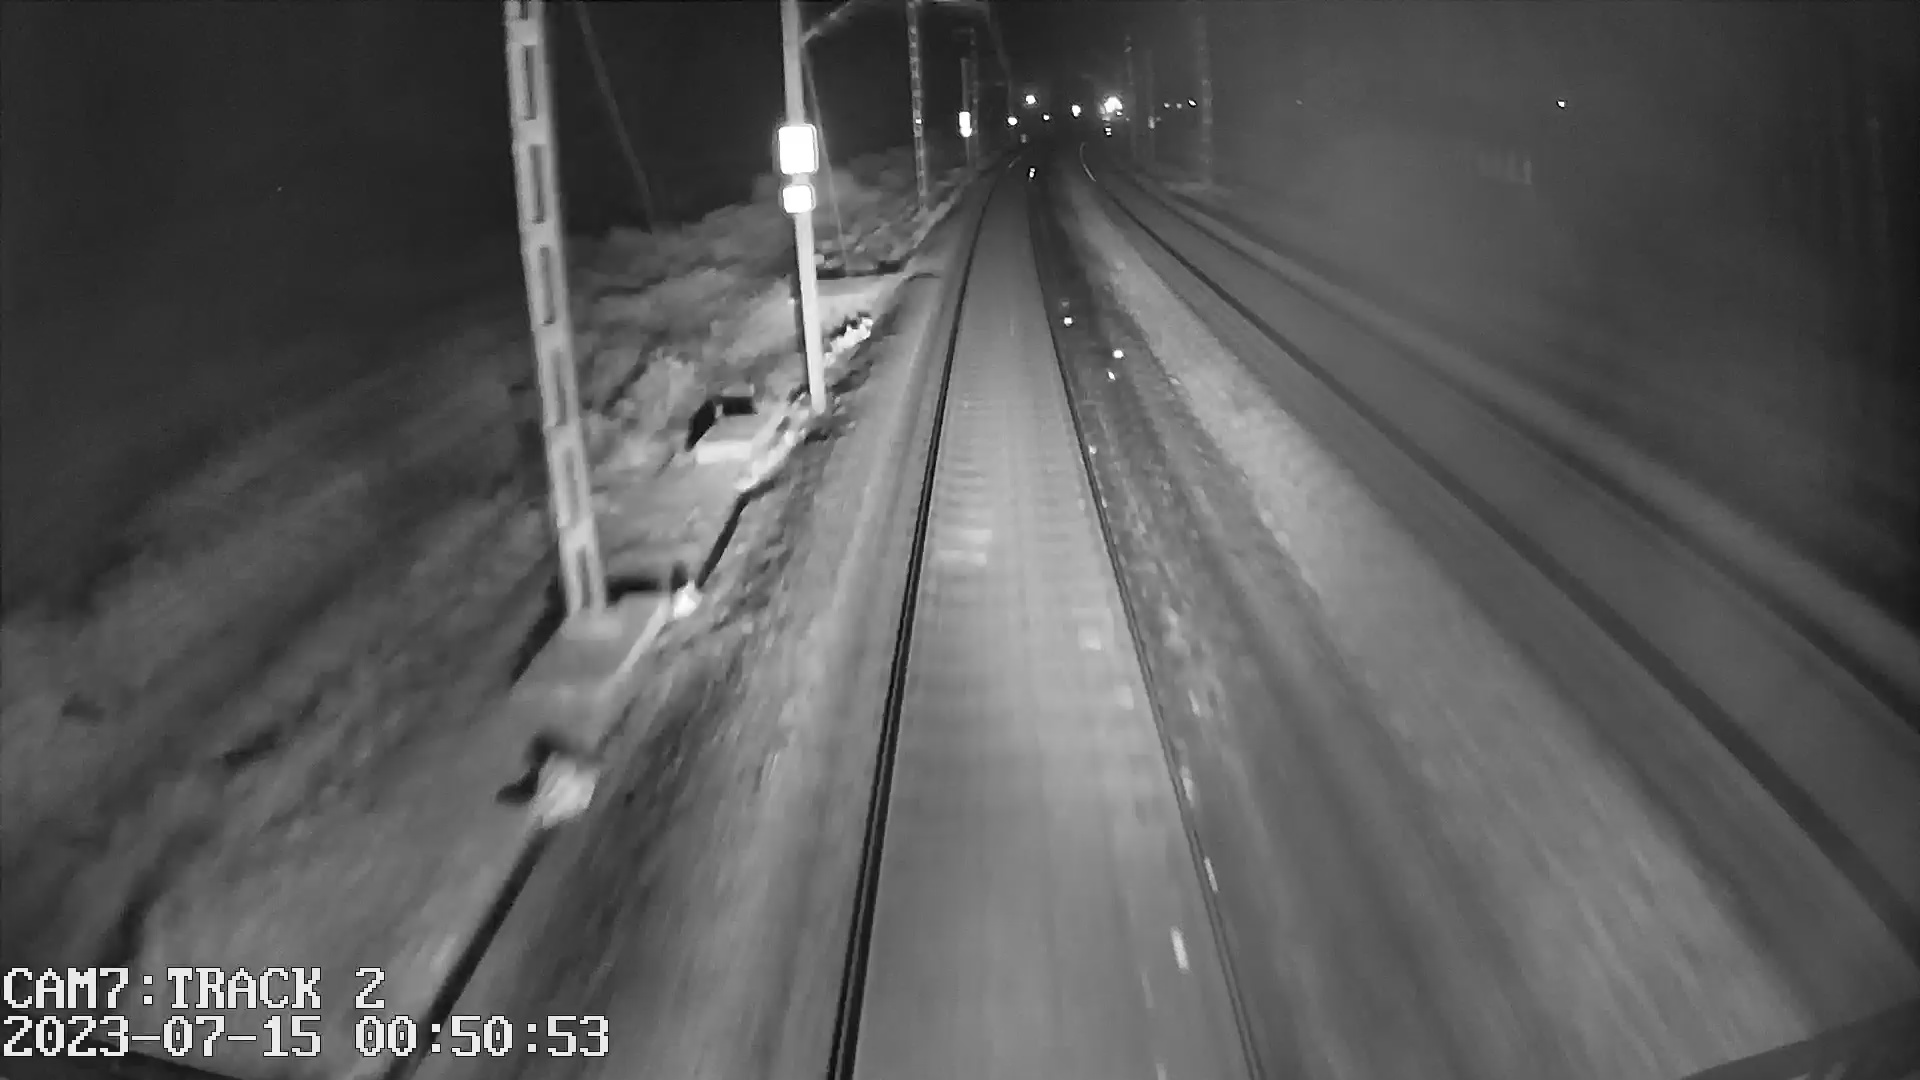track1: (841, 200, 1258, 1065)
track2: (1112, 185, 1912, 841)
